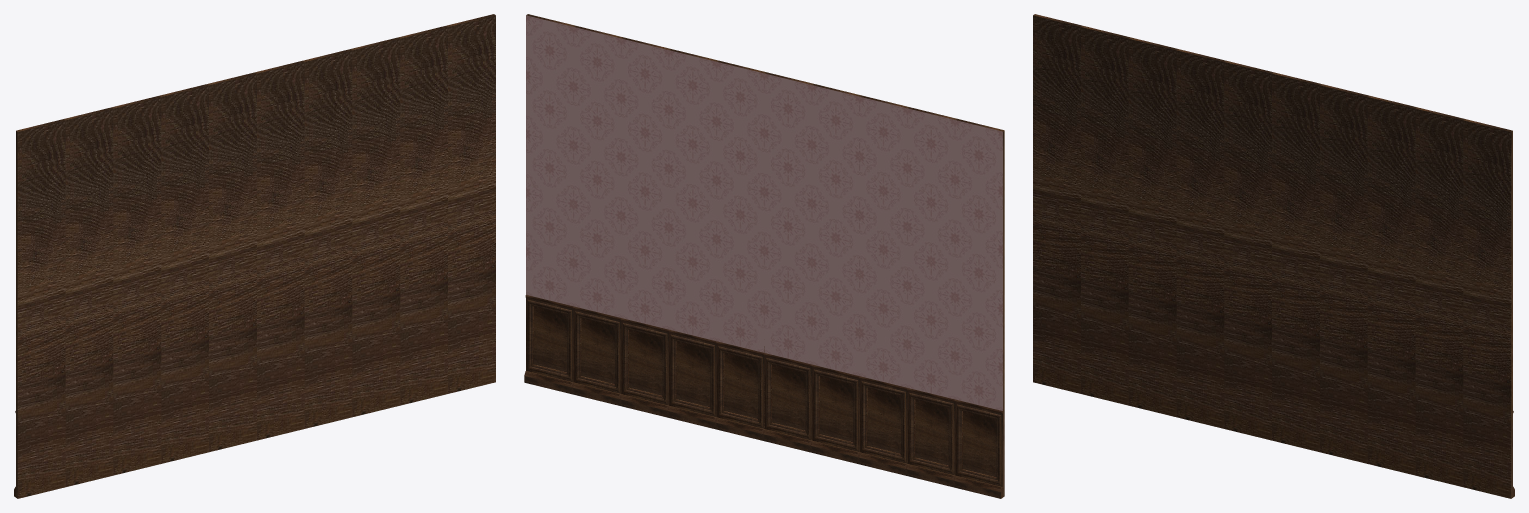
The model's file is Mur_Fille_10X.fbx.
3 views of the same model, side by side, from view 1: azimuth 30°, elevation 25°; view 2: azimuth 150°, elevation 25°; view 3: azimuth 330°, elevation 25° (orthographic).
Visible parts, largest first — view 1: Cube; view 2: Cube; view 3: Cube.
Part boxes in pixels (<box>): Cube: <box>14,14,495,498</box>; Cube: <box>524,14,1004,498</box>; Cube: <box>1033,14,1514,498</box>.
Size of the model in its own units: 1500 by 1100 by 20.
